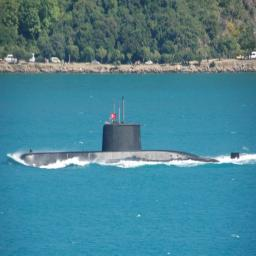submarine: (18, 124, 242, 165)
